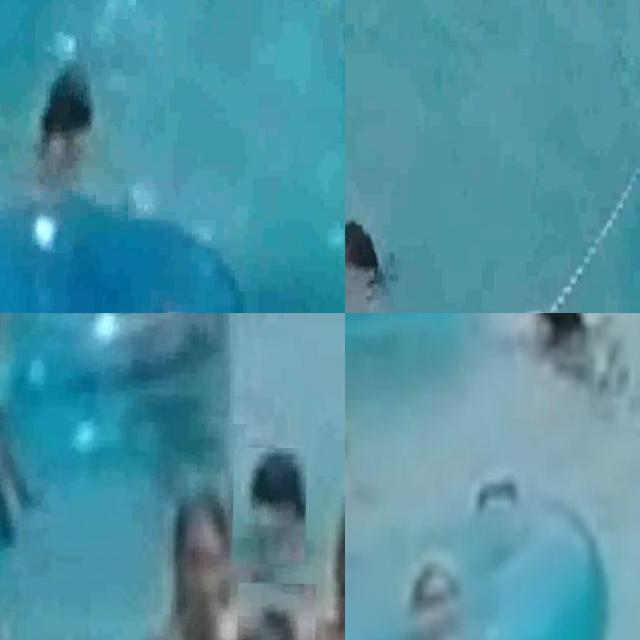drowning: (0, 21, 137, 208), (493, 313, 626, 425), (345, 135, 422, 313), (232, 446, 308, 566)
swimming: (155, 485, 229, 640), (0, 313, 26, 502), (235, 582, 316, 640)
